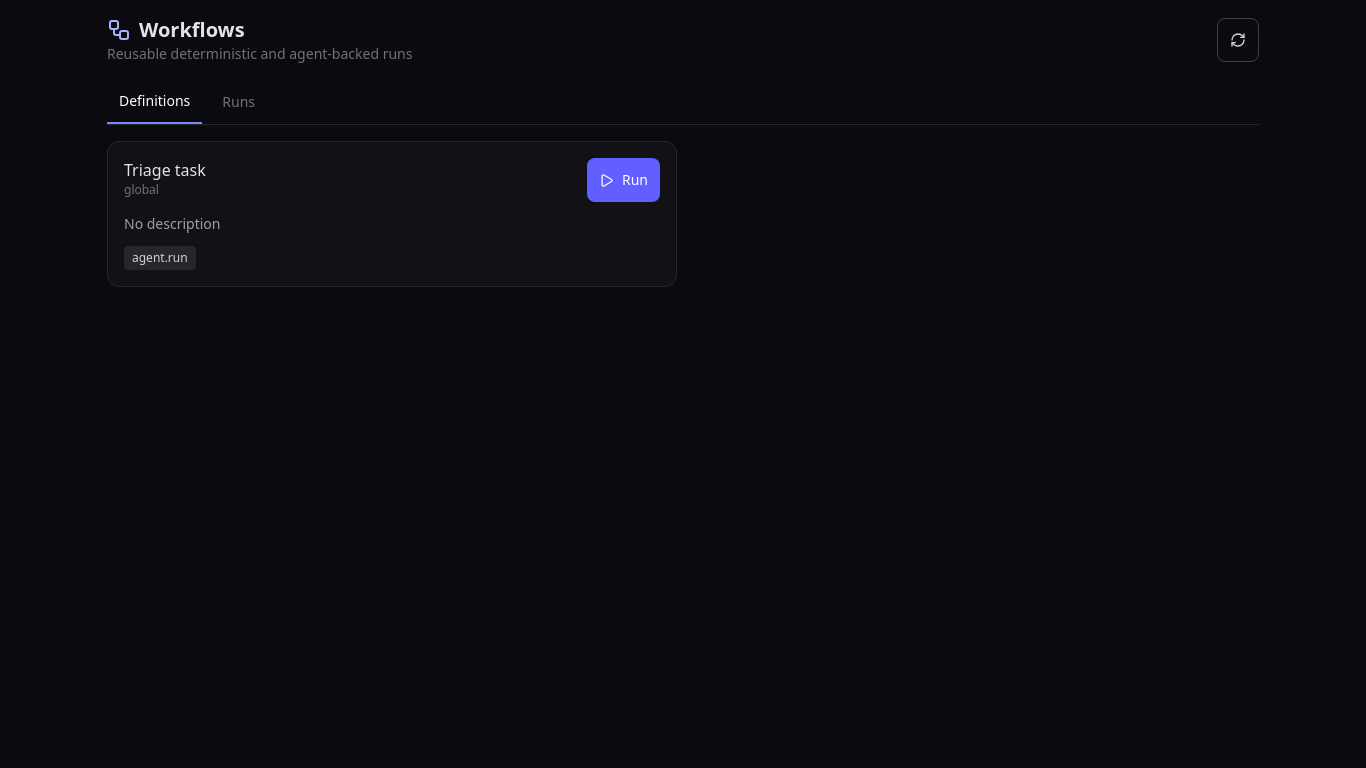
it: workflow task input › shows done and archived tasks on request
The width and height of the screenshot is (1366, 768).
Click the button "Run" at [624, 180], box 587,158 -> 660,202
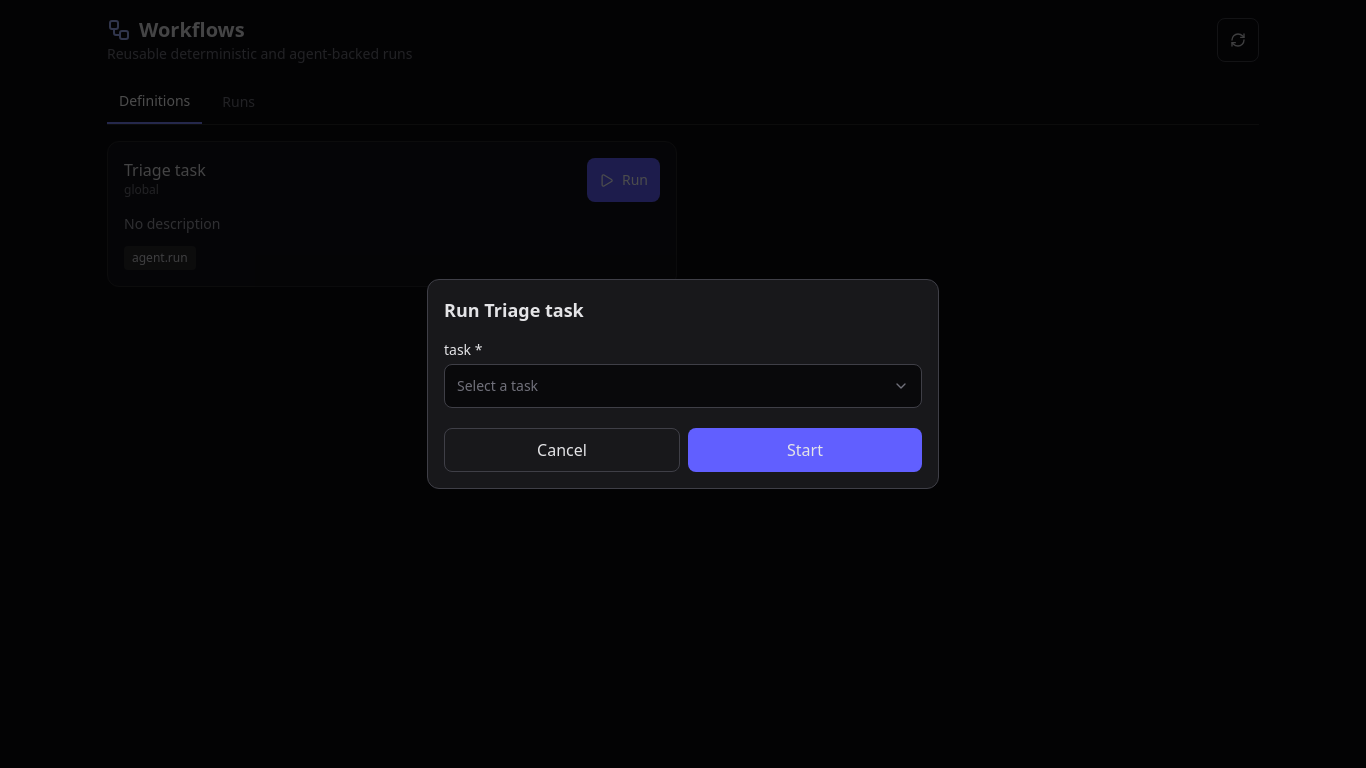
Click the dropdown labelled "Select a task" at [498, 386], box 444,364 -> 922,408
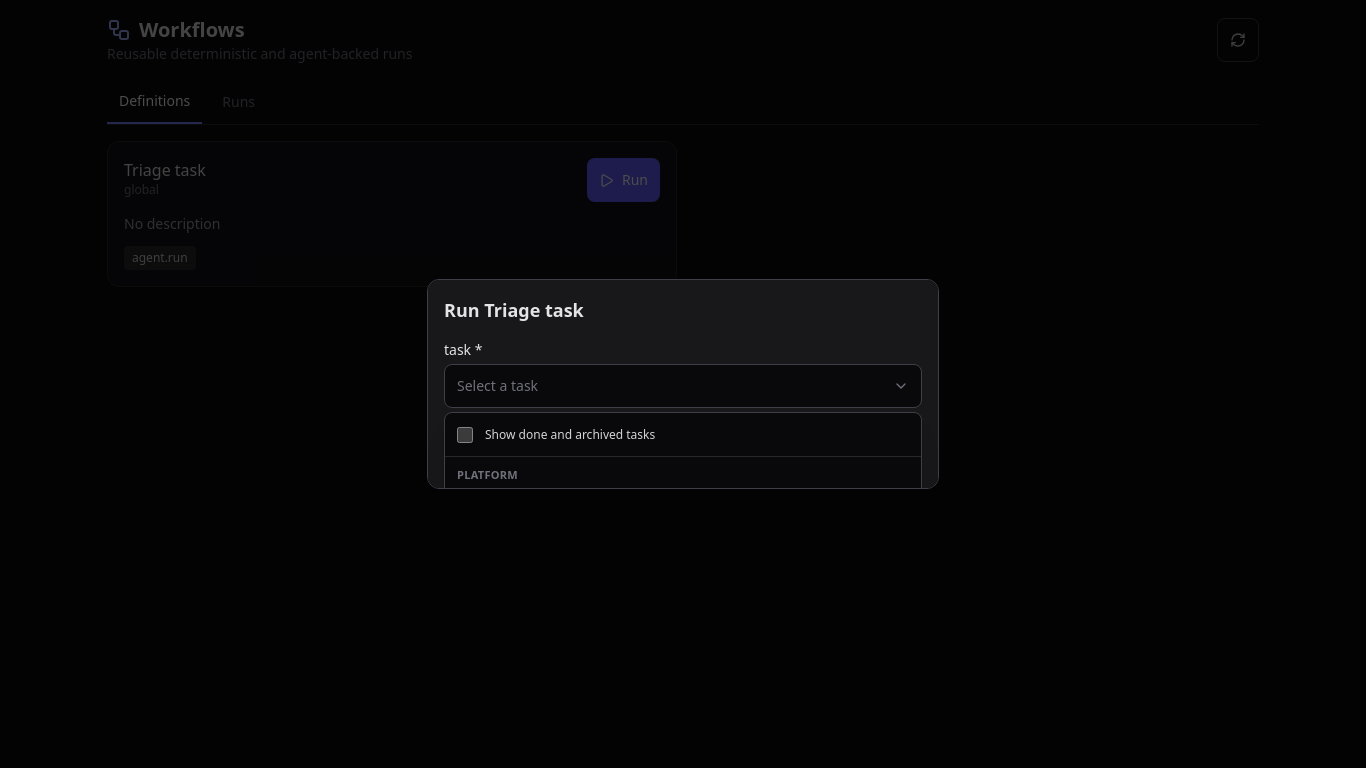
Click the checkbox labelled "Show done and archived tasks" at [465, 434], box 457,426 -> 473,442
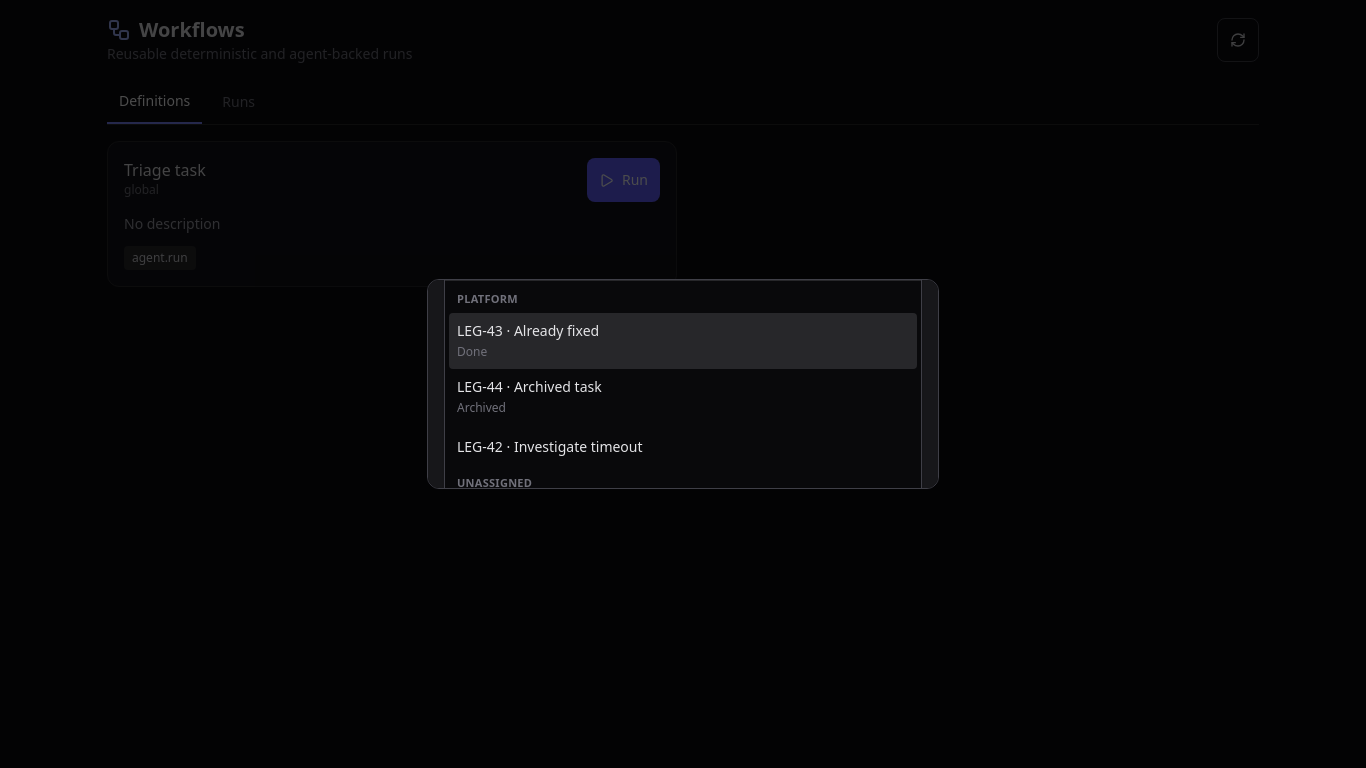
Now the option "LEG-43 · Already fixed Done" is shown, box 449,313 -> 917,369
Now the option "LEG-44 · Archived task Archived" is shown, box 457,377 -> 602,416
